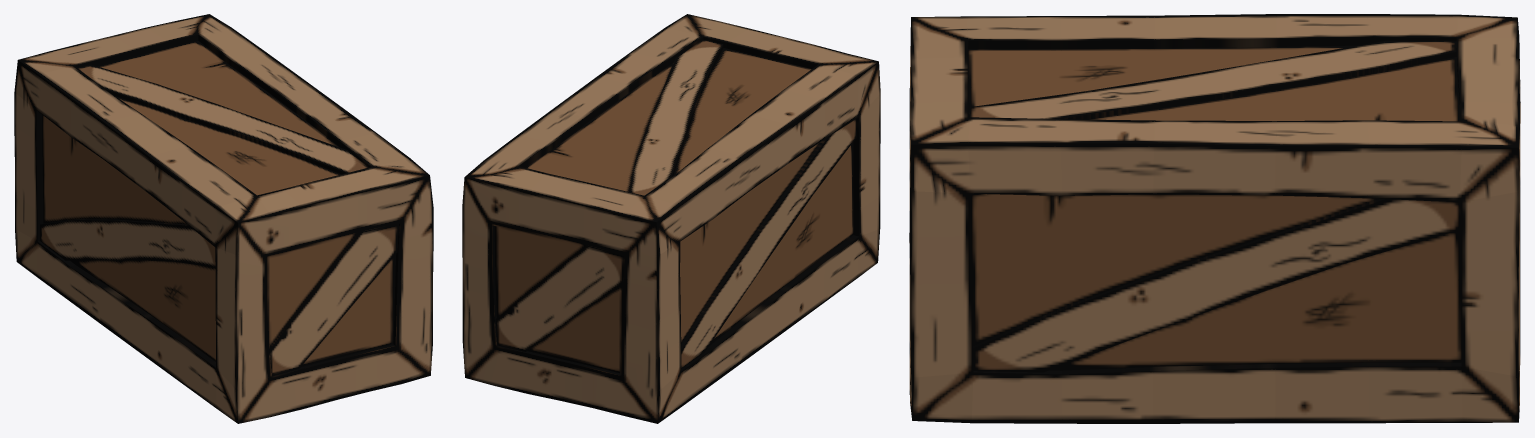
File: większy_box.fbx
3 renders of one model, left to right at view 1: azimuth 30°, elevation 25°; view 2: azimuth 150°, elevation 25°; view 3: azimuth 270°, elevation 25°, orthographic. The views are drawn at different scales.
Parts seen in each view (by area): view 1: większy box; view 2: większy box; view 3: większy box.
Part boxes in pixels (x1,y1,x2,y2): większy box: (14,14,433,423); większy box: (462,14,880,423); większy box: (909,14,1520,423).
Size of the model in its own units: 66.16 by 65.93 by 130.
Materials: 1 (1 with a texture image).
